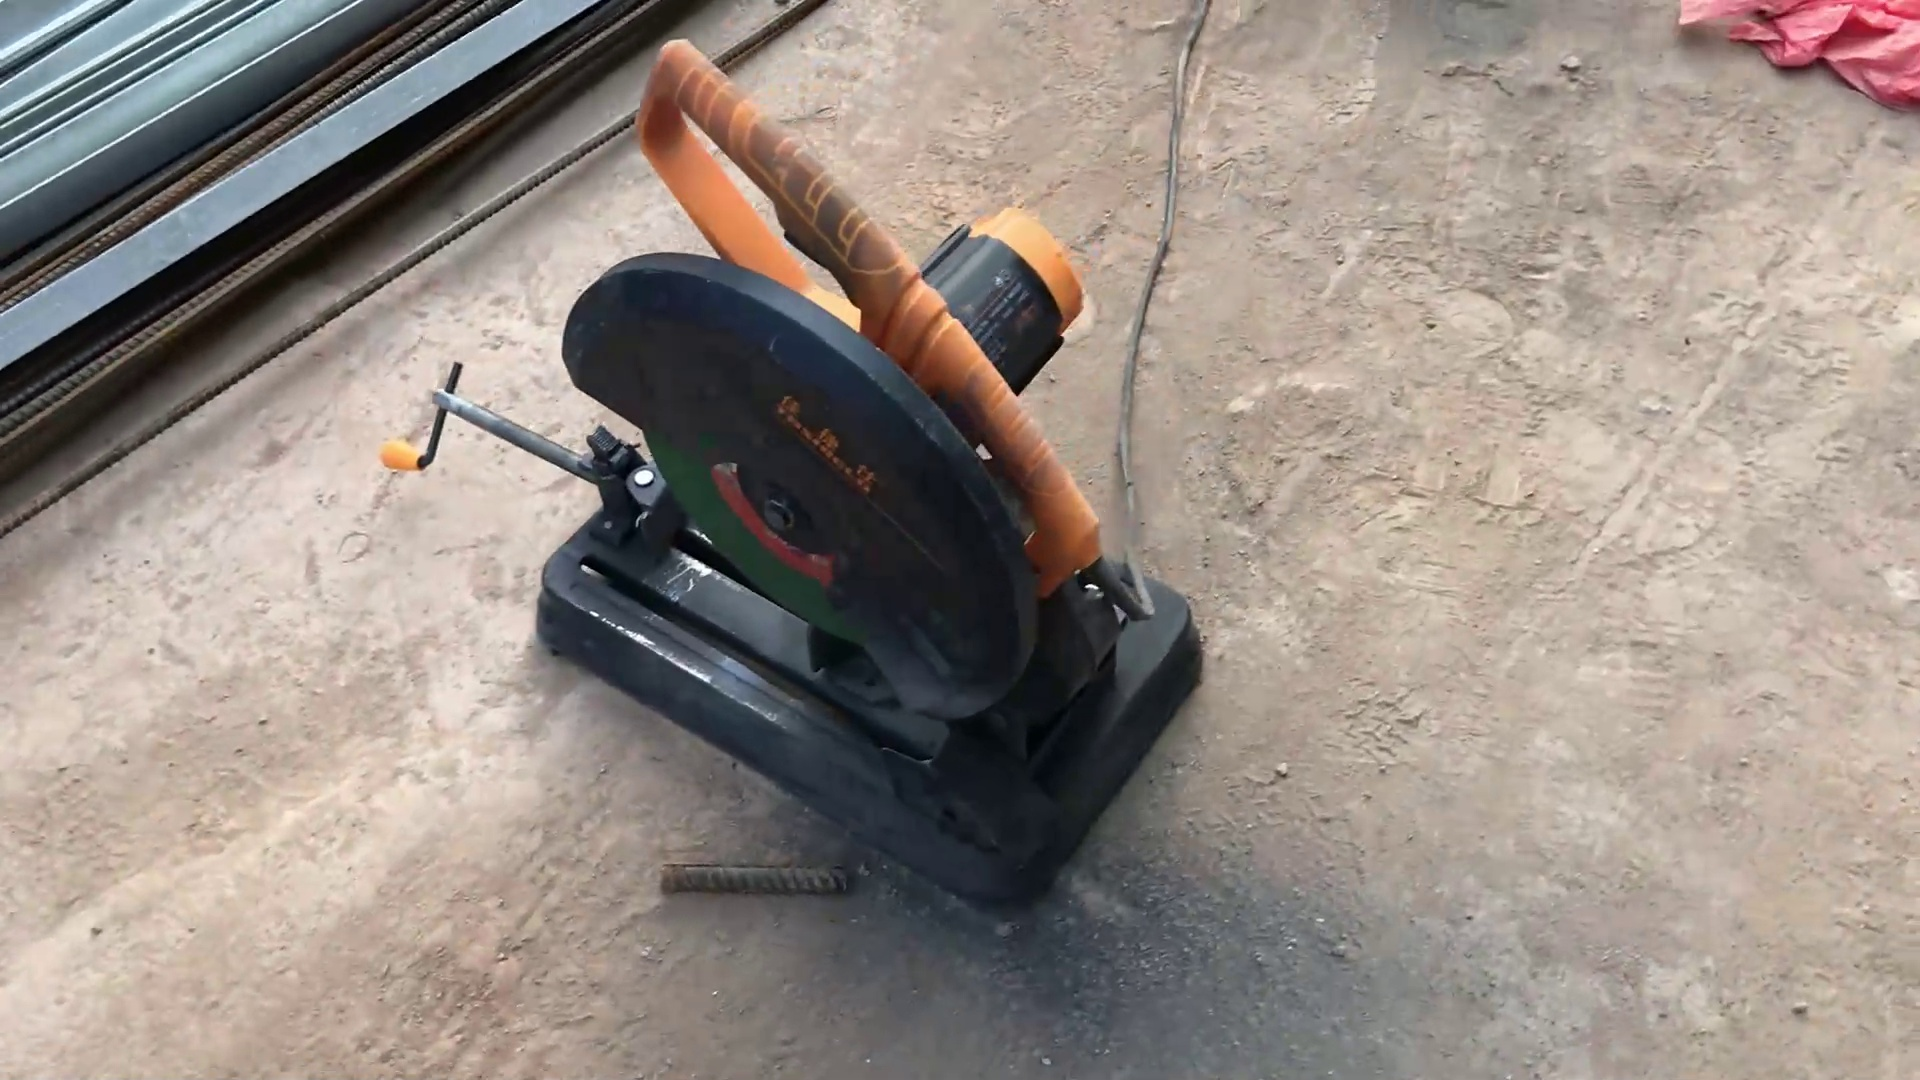cutter: (398, 17, 1257, 926)
